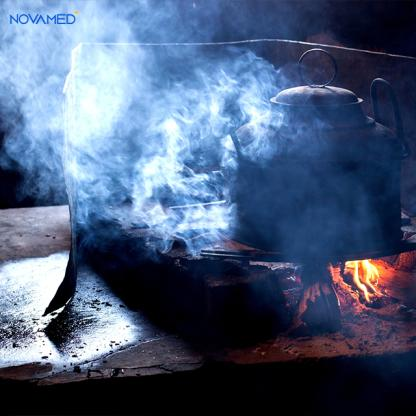fire: (339, 263, 391, 308)
smoke: (0, 0, 416, 259)
